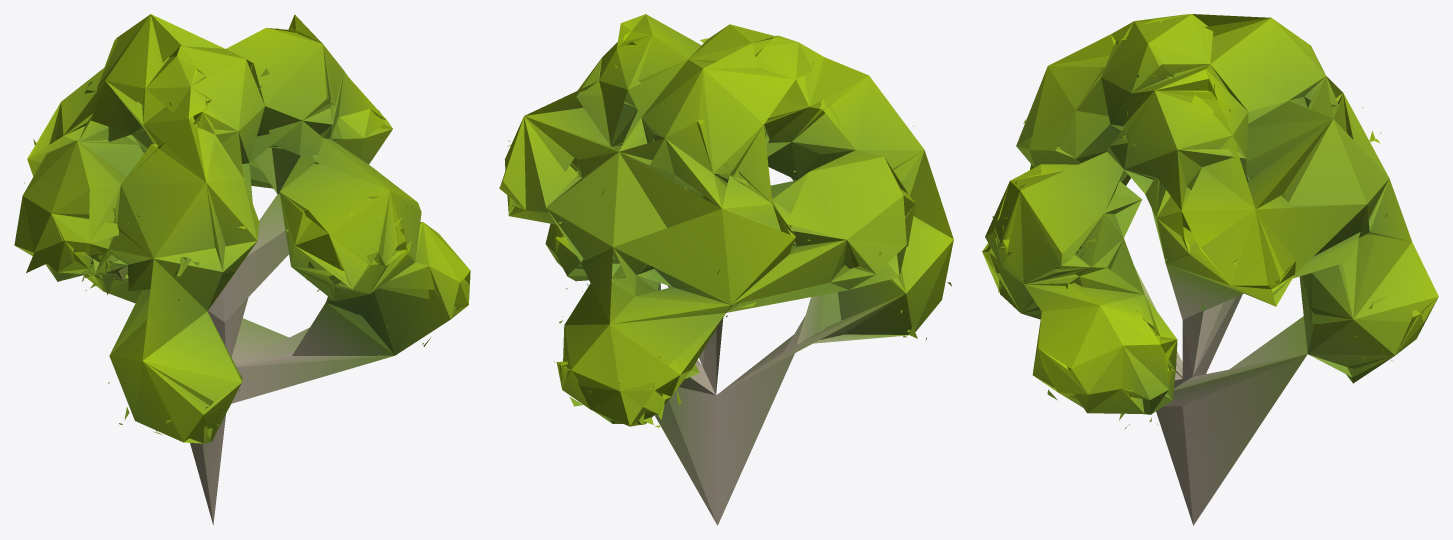
Rendered from summer_aspen_lod.glb.
3 renders of one model, left to right at view 1: azimuth 30°, elevation 25°; view 2: azimuth 150°, elevation 25°; view 3: azimuth 270°, elevation 25°, orthographic.
Parts seen in each view (by area): view 1: summer_aspen_lod; view 2: summer_aspen_lod; view 3: summer_aspen_lod.
Boxes of the visible parts, box(x1,y1,x2,y2) form: summer_aspen_lod: box(14, 14, 470, 524); summer_aspen_lod: box(499, 14, 953, 525); summer_aspen_lod: box(982, 14, 1438, 525).
Size of the model in its own units: 0.9401 by 1.13 by 0.943.
